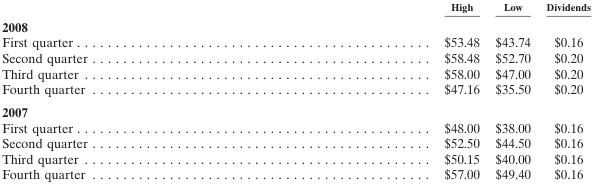table: (1, 0, 590, 181)
table column: (1, 0, 265, 181), (265, 0, 486, 181), (537, 0, 590, 181), (486, 0, 537, 181)
table column header: (1, 0, 590, 15)
table projected row header: (1, 15, 590, 34), (1, 100, 590, 119)
table row: (1, 80, 590, 100), (1, 15, 590, 34), (1, 100, 590, 119), (1, 49, 590, 65), (1, 134, 590, 150), (1, 165, 590, 181), (1, 0, 590, 15), (1, 34, 590, 49), (1, 65, 590, 80), (1, 119, 590, 134), (1, 150, 590, 165)
